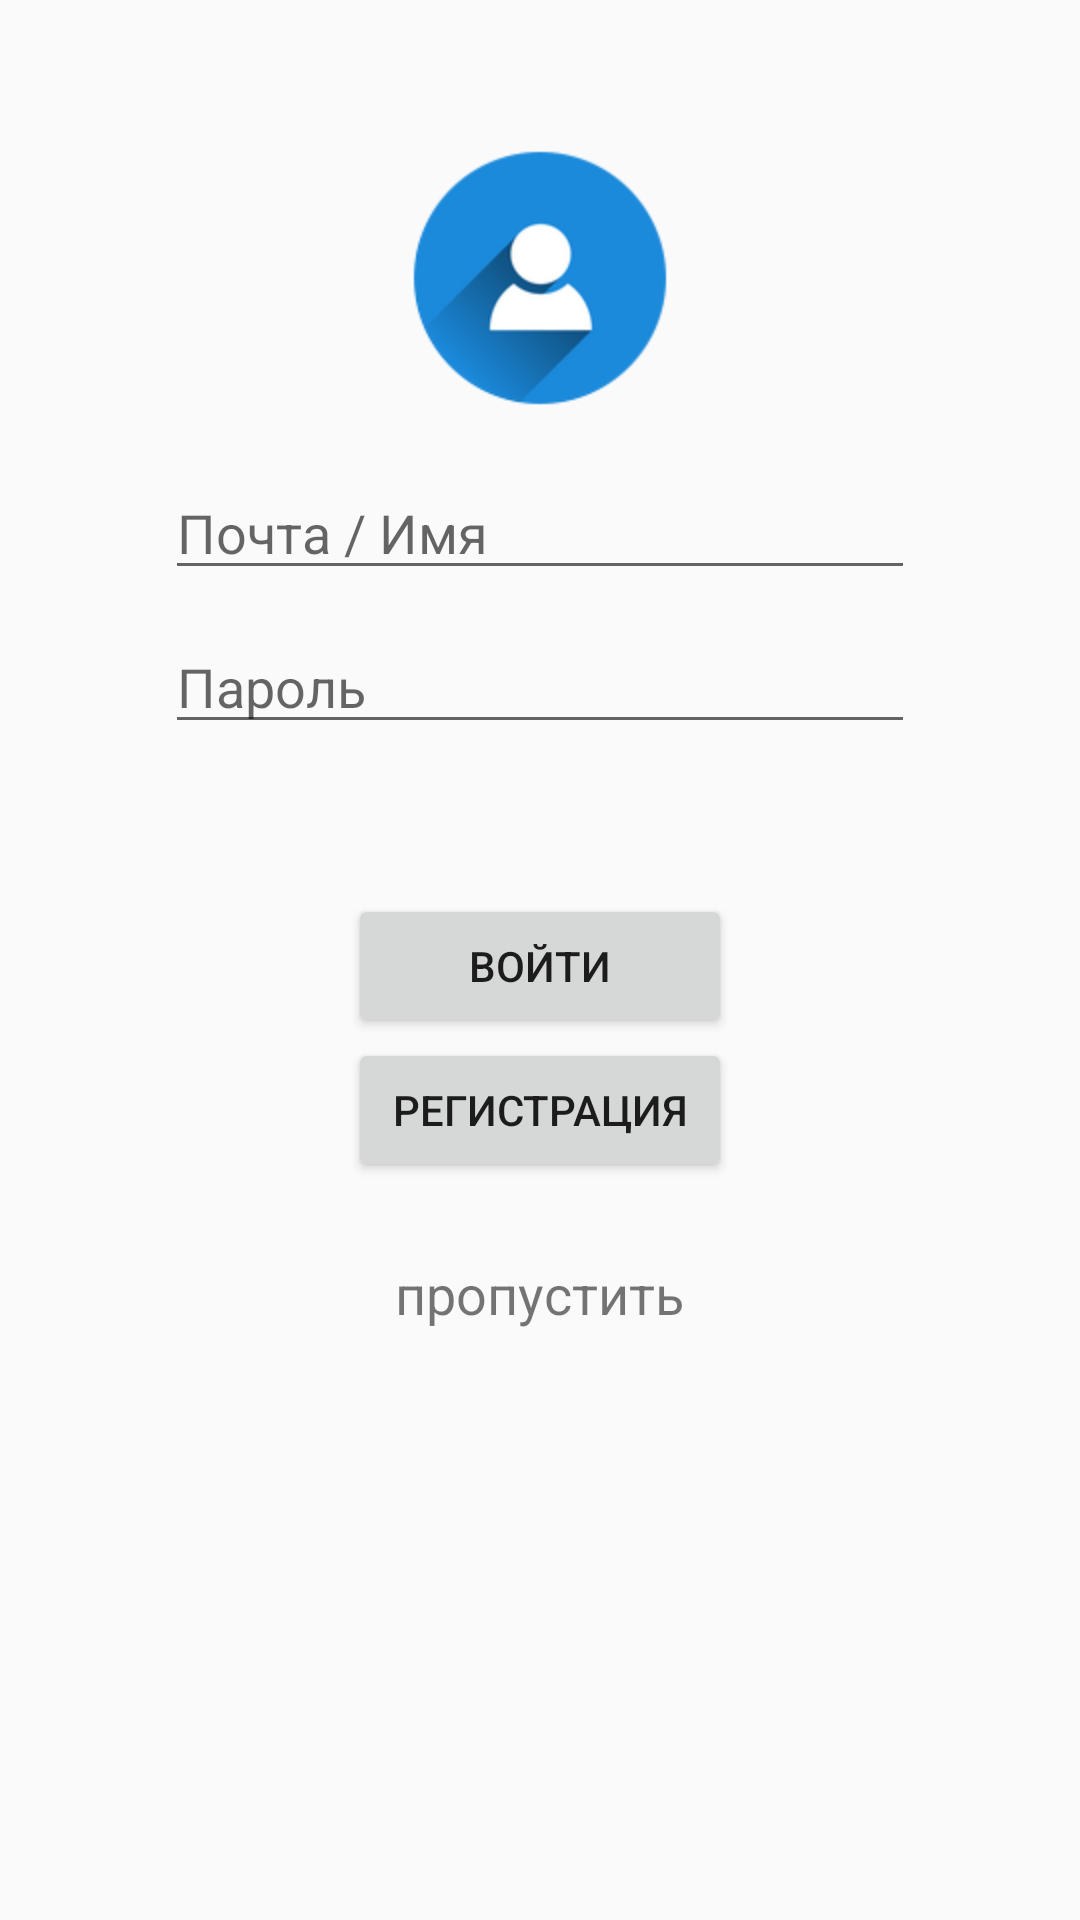

Icon bounding boxes for this 1080×1920 phone screenshot, format (x1, y1, x2, y2):
profile: (413, 151, 667, 405)
